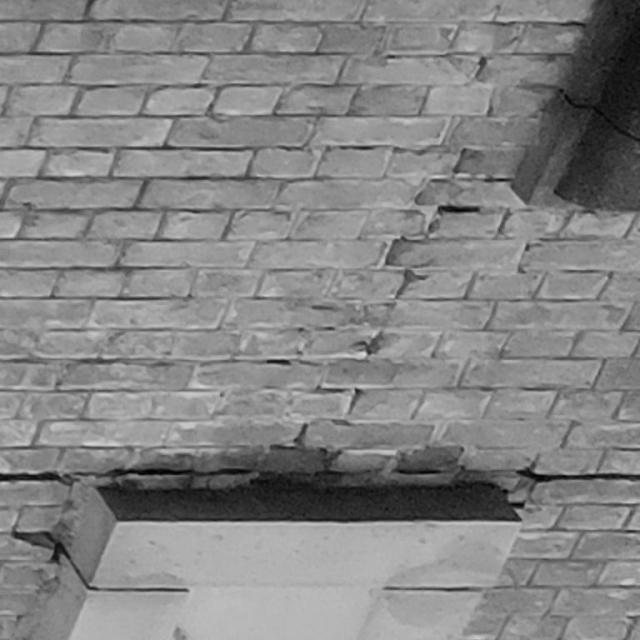crack: (1, 468, 640, 484), (10, 531, 62, 563)
